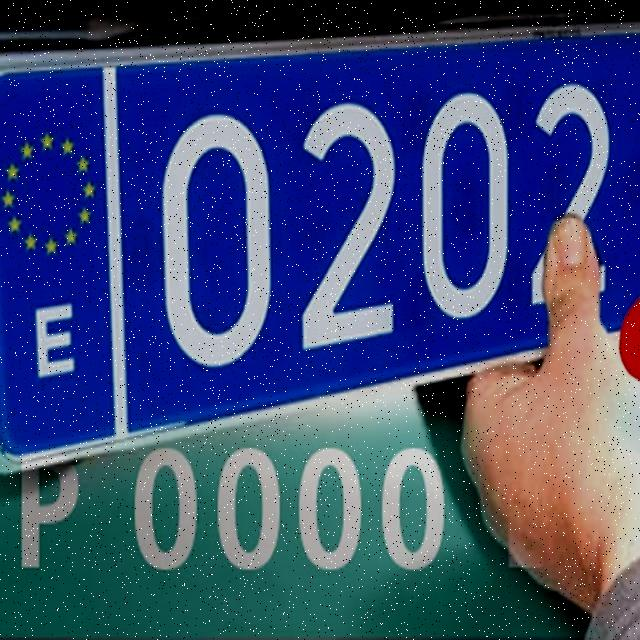licenseplate: (0, 21, 640, 482)
